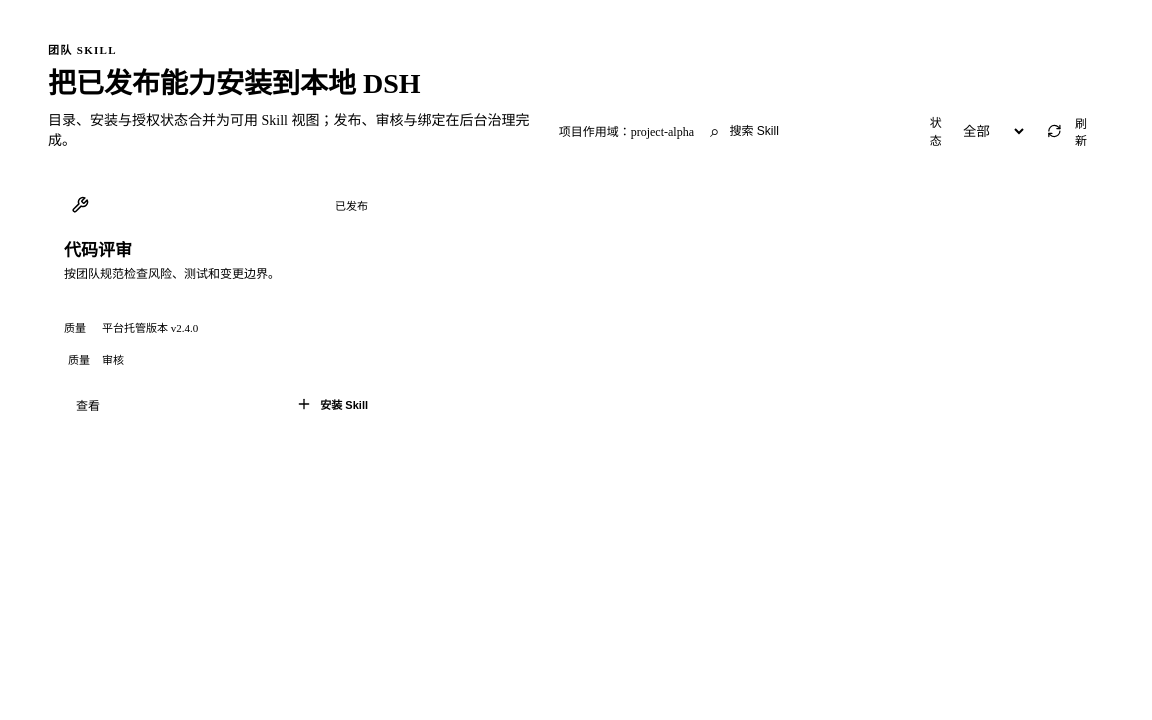
§11.14 安装阶段证据（视图） › 失败安装渲染全部七个阶段，失败阶段为失败、其后阶段为未执行
Expected: the heading "代码评审" is shown, [64, 241, 132, 260]
Click the button "安装 Skill".
click(332, 404)  # box [288, 388, 376, 420]
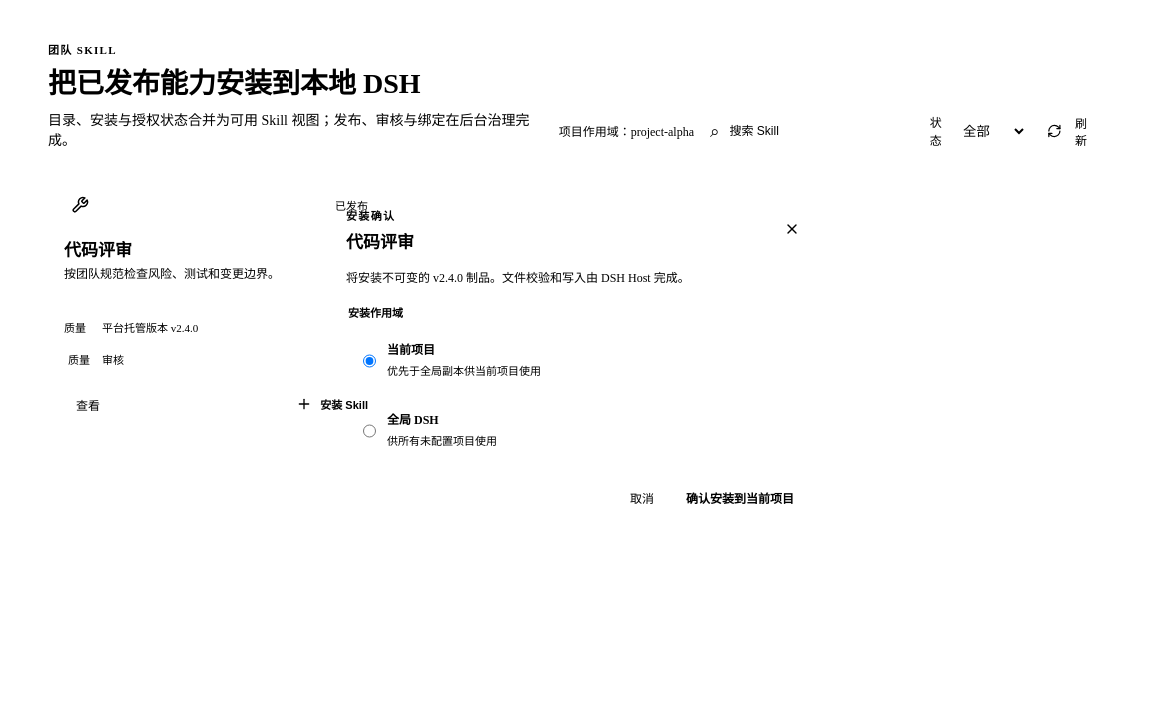
Click the button "确认安装到当前项目".
click(740, 497)  # box [674, 480, 806, 514]
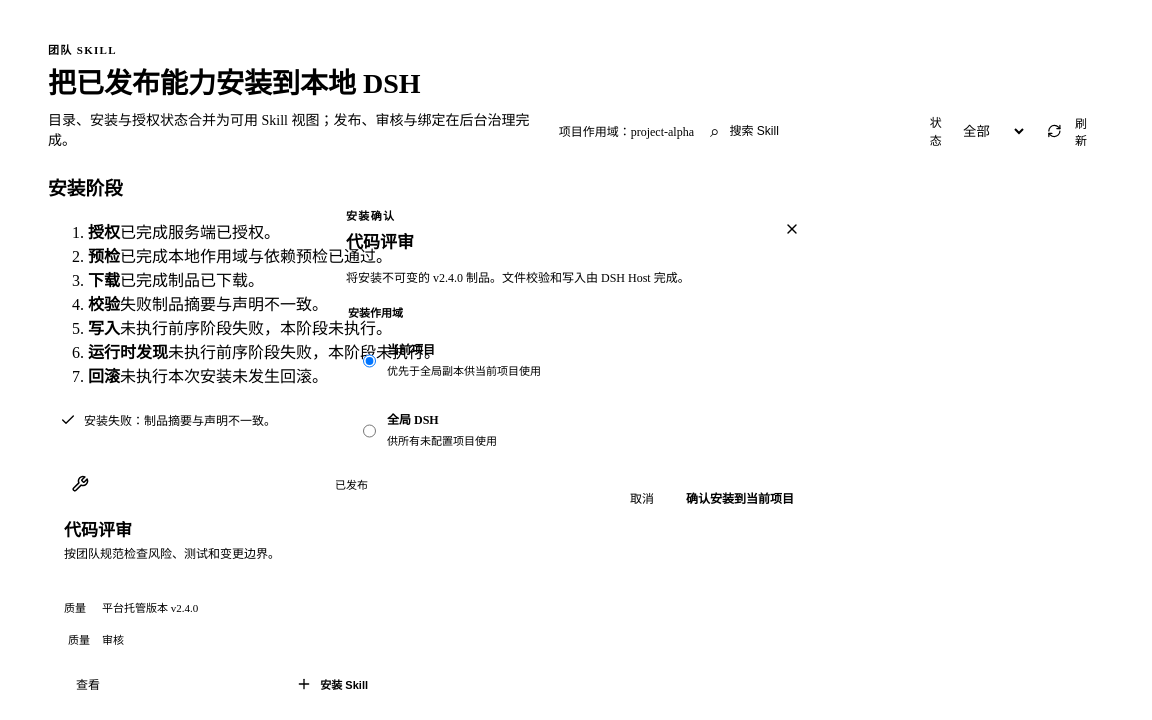
Result: the number of list items is 7
Result: the text "失败" is shown at [120, 296, 152, 313]
